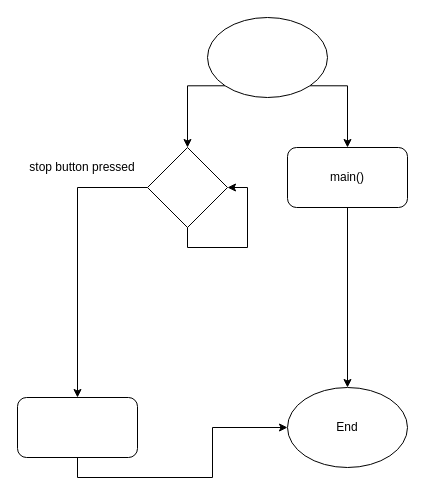
The diagram is 425 pixels wide and 503 high, and some of its shapes have lost their labels. The centre of each missing label's shape, as x and y in pixels:
"Start" goes at pixel 267 57.
"stop()" goes at pixel 77 427.
